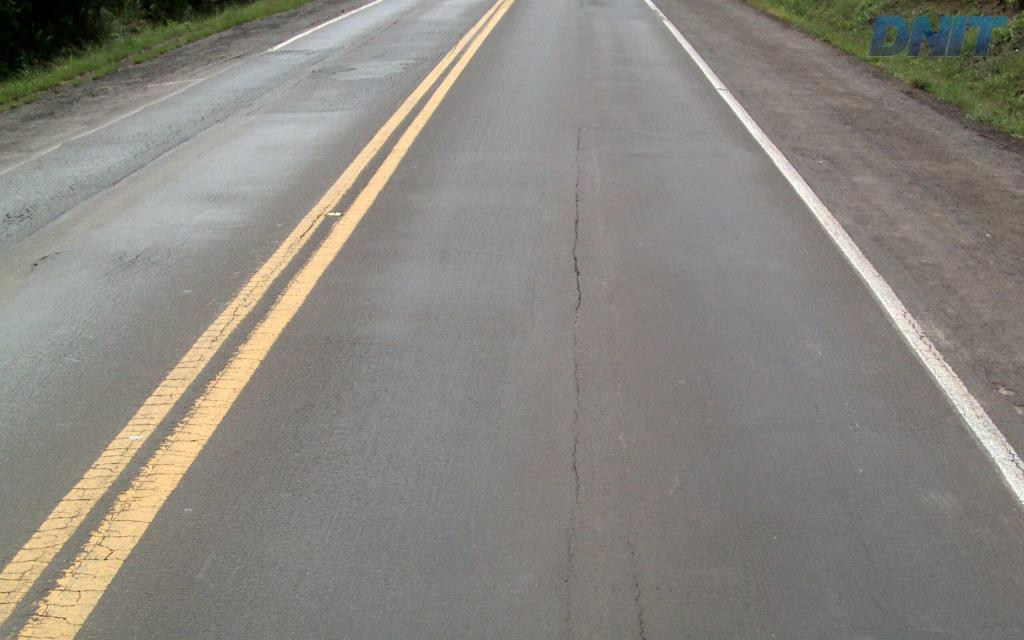crack: (552, 532, 579, 626), (571, 176, 584, 311), (631, 574, 651, 638)
